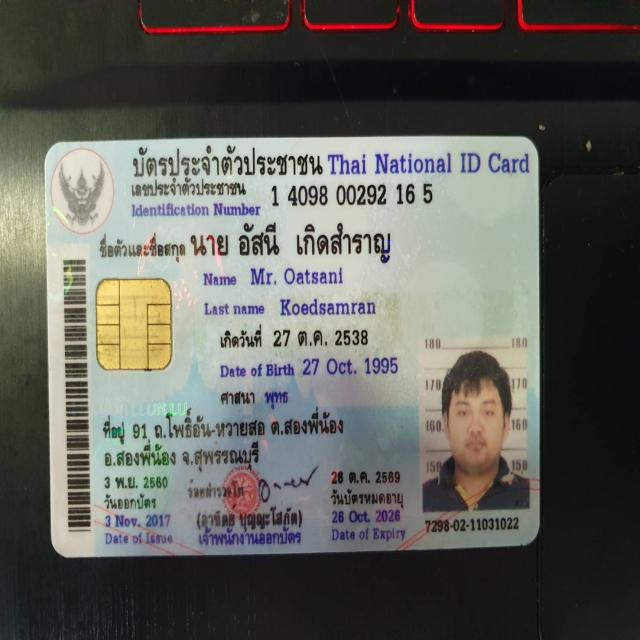Address_th: (99, 404, 351, 474)
Date_of_Birth: (296, 349, 409, 382)
Date_of_Expiry: (328, 507, 405, 527)
Date_of_Issue: (103, 509, 174, 532)
First_Name: (242, 258, 351, 290)
ID_Number: (265, 179, 440, 216)
Image: (418, 339, 531, 509)
Last_Name: (273, 292, 386, 326)
Thai_Name: (186, 216, 396, 268)
